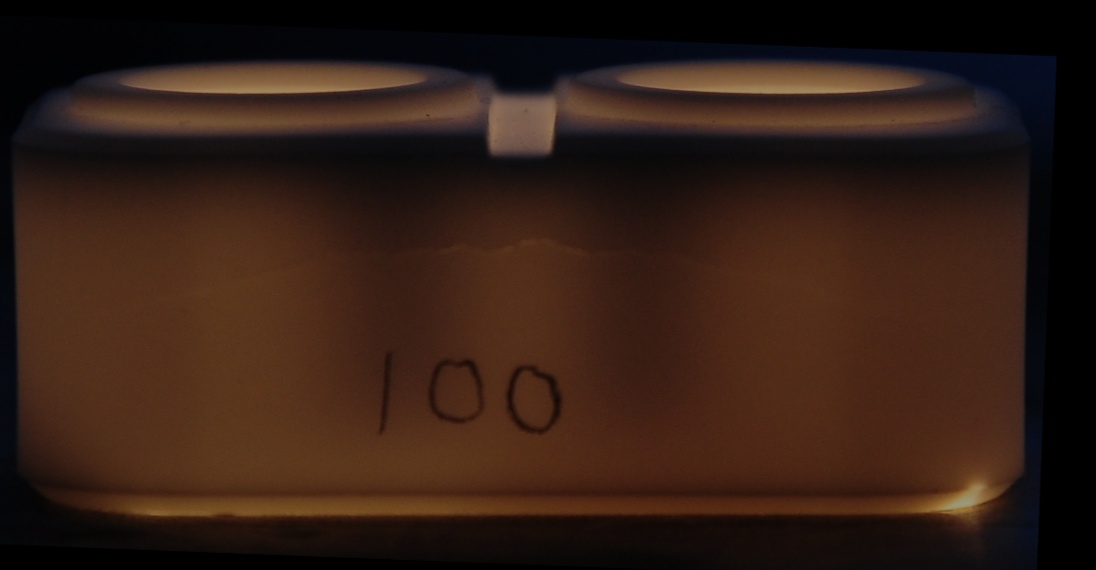flaw: (112, 225, 941, 330)
